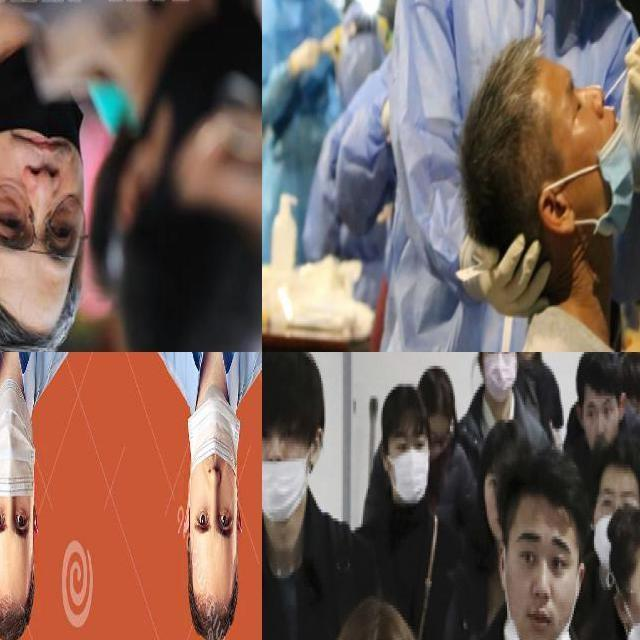apron: (455, 230, 558, 319)
hairnet: (0, 56, 86, 274), (555, 68, 634, 233), (192, 403, 235, 552), (512, 530, 570, 639), (262, 413, 300, 519)
no_gloves: (459, 33, 569, 229), (0, 253, 92, 350), (181, 537, 247, 639), (494, 447, 580, 522), (0, 532, 41, 639), (376, 382, 429, 434), (577, 352, 628, 400), (595, 437, 640, 490)
